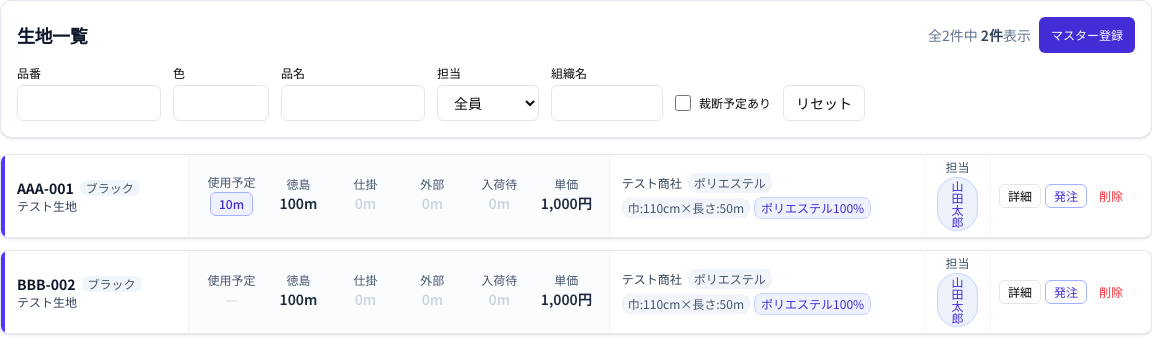
Test: ProductListTable 裁断予定の絞り込み › 裁断予定ありをオンにすると裁断予定のある生地だけになる
Click the checkbox labelled "裁断予定あり" at (683, 103), box [675,95,691,111]
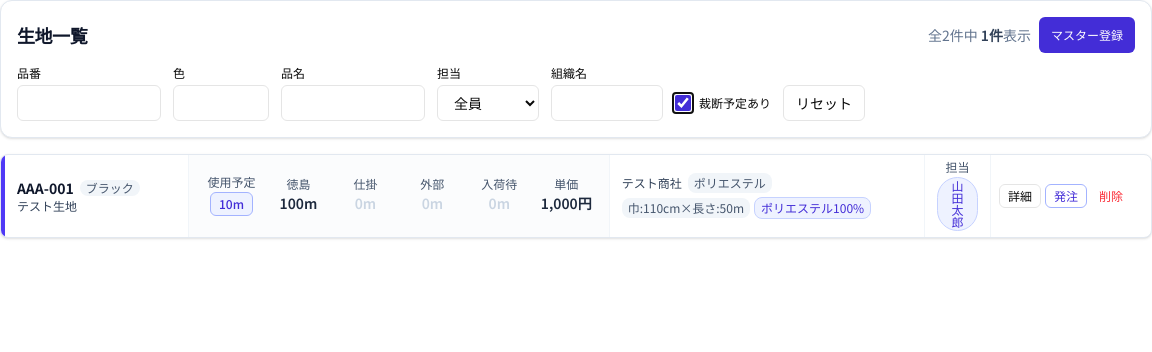
Expected: the text "AAA-001" is shown, [17,181,74,195]
Expected: the text "BBB-002" is gone
